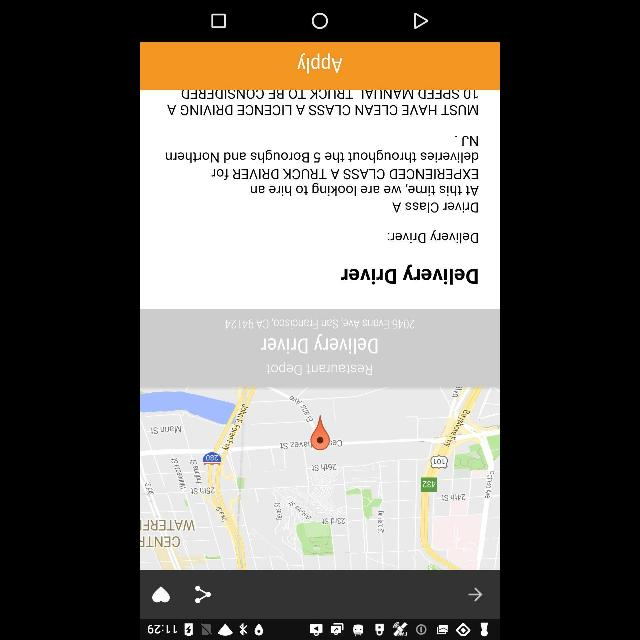icon: (191, 584, 213, 604), (152, 584, 172, 606), (466, 584, 486, 606), (309, 12, 329, 30), (412, 13, 430, 29), (212, 12, 226, 28)
map: (140, 387, 500, 571)
panel: (140, 312, 500, 384), (140, 2, 498, 40)
text: (170, 90, 480, 116), (208, 165, 478, 183), (163, 149, 482, 163), (217, 316, 417, 332), (340, 264, 480, 286), (248, 183, 480, 195), (260, 336, 386, 356), (264, 362, 380, 378), (387, 230, 479, 246), (390, 200, 480, 213), (296, 54, 344, 76), (460, 134, 480, 150)
textbutton: (141, 42, 499, 88)
toolbar: (144, 572, 498, 618)
uppertaskbar: (143, 620, 497, 638)
